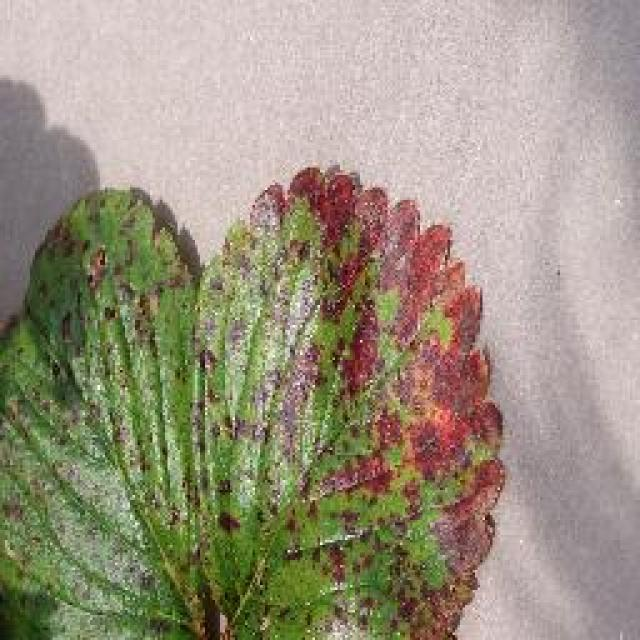Strawberry leaf scorch: (235, 215, 445, 598)
